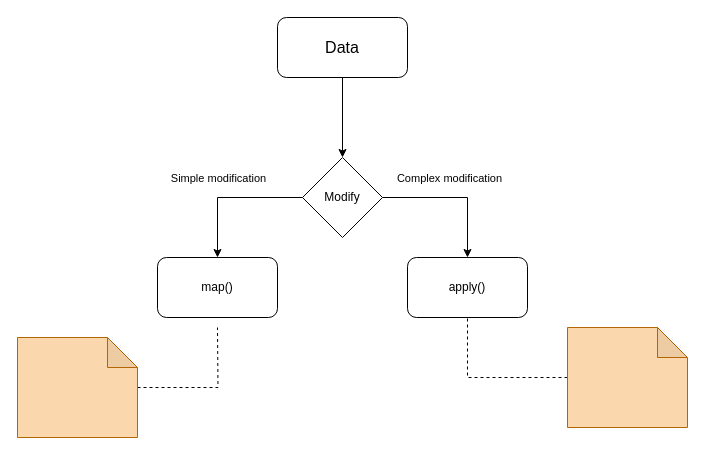
Image size: 705x455. Some labels were removed from this diagram. The shapes that lost their labels are listed below. From the top down, each one's centre as x and y in pixels, then its label:
point 77,387: Used on a Series, can only use the Series values
point 627,377: Used on a DataFrame, can involve more columns
